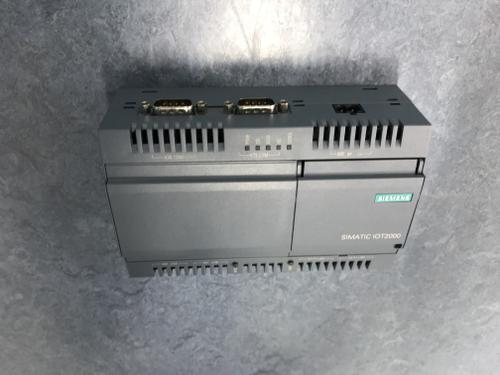device: (97, 84, 432, 278)
